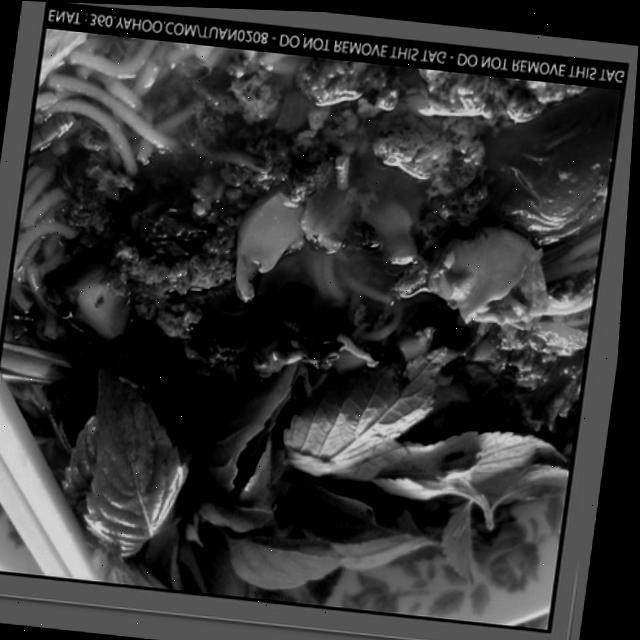面条主食: (0, 7, 624, 628)
